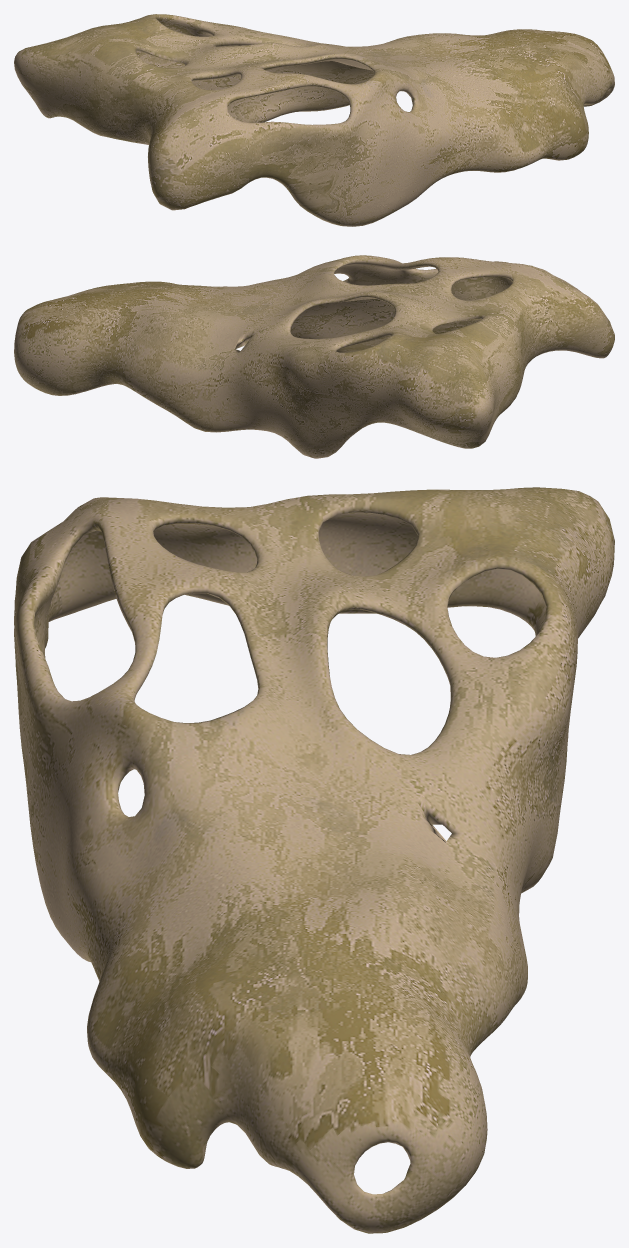
File: fossil-kepala-buaya.glb
3 renders of one model, top to bottom at view 1: azimuth 30°, elevation 25°; view 2: azimuth 150°, elevation 25°; view 3: azimuth 270°, elevation 25°, orthographic. The views are drawn at different scales.
Visible parts, largest first — view 1: fossil-buaya-mesh; view 2: fossil-buaya-mesh; view 3: fossil-buaya-mesh.
Part boxes in pixels (x1,y1,x2,y2): fossil-buaya-mesh: (14, 14, 614, 226); fossil-buaya-mesh: (14, 255, 614, 458); fossil-buaya-mesh: (14, 487, 614, 1233).
Bounding box in the file's own units: 0.3466 × 0.1041 × 0.1776.
Materials: 1 (1 with a texture image).
